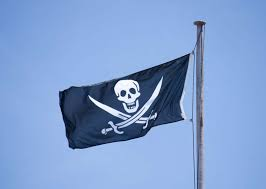Jolly Roger Flag: (58, 55, 192, 151)
